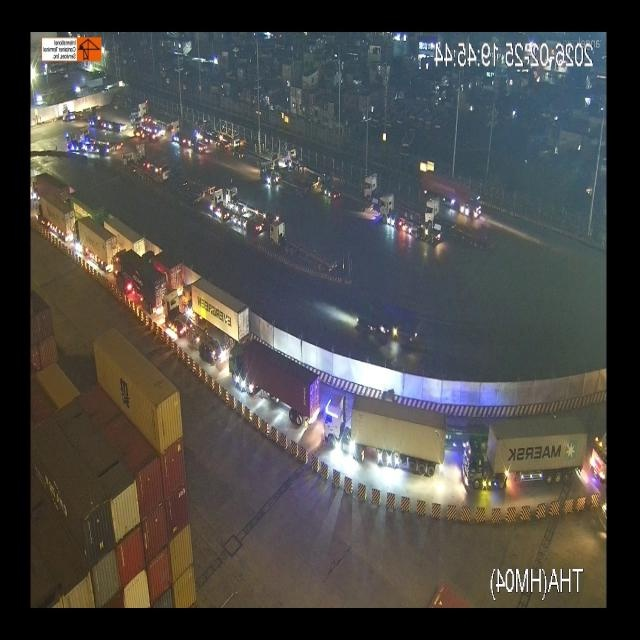truck: (321, 388, 447, 466), (461, 414, 585, 490), (226, 333, 322, 407), (179, 266, 247, 335), (428, 192, 488, 255), (109, 250, 165, 313), (74, 216, 116, 272), (108, 210, 146, 258), (34, 190, 72, 235), (380, 188, 416, 230), (65, 191, 111, 221), (140, 250, 181, 281), (359, 163, 381, 205)
